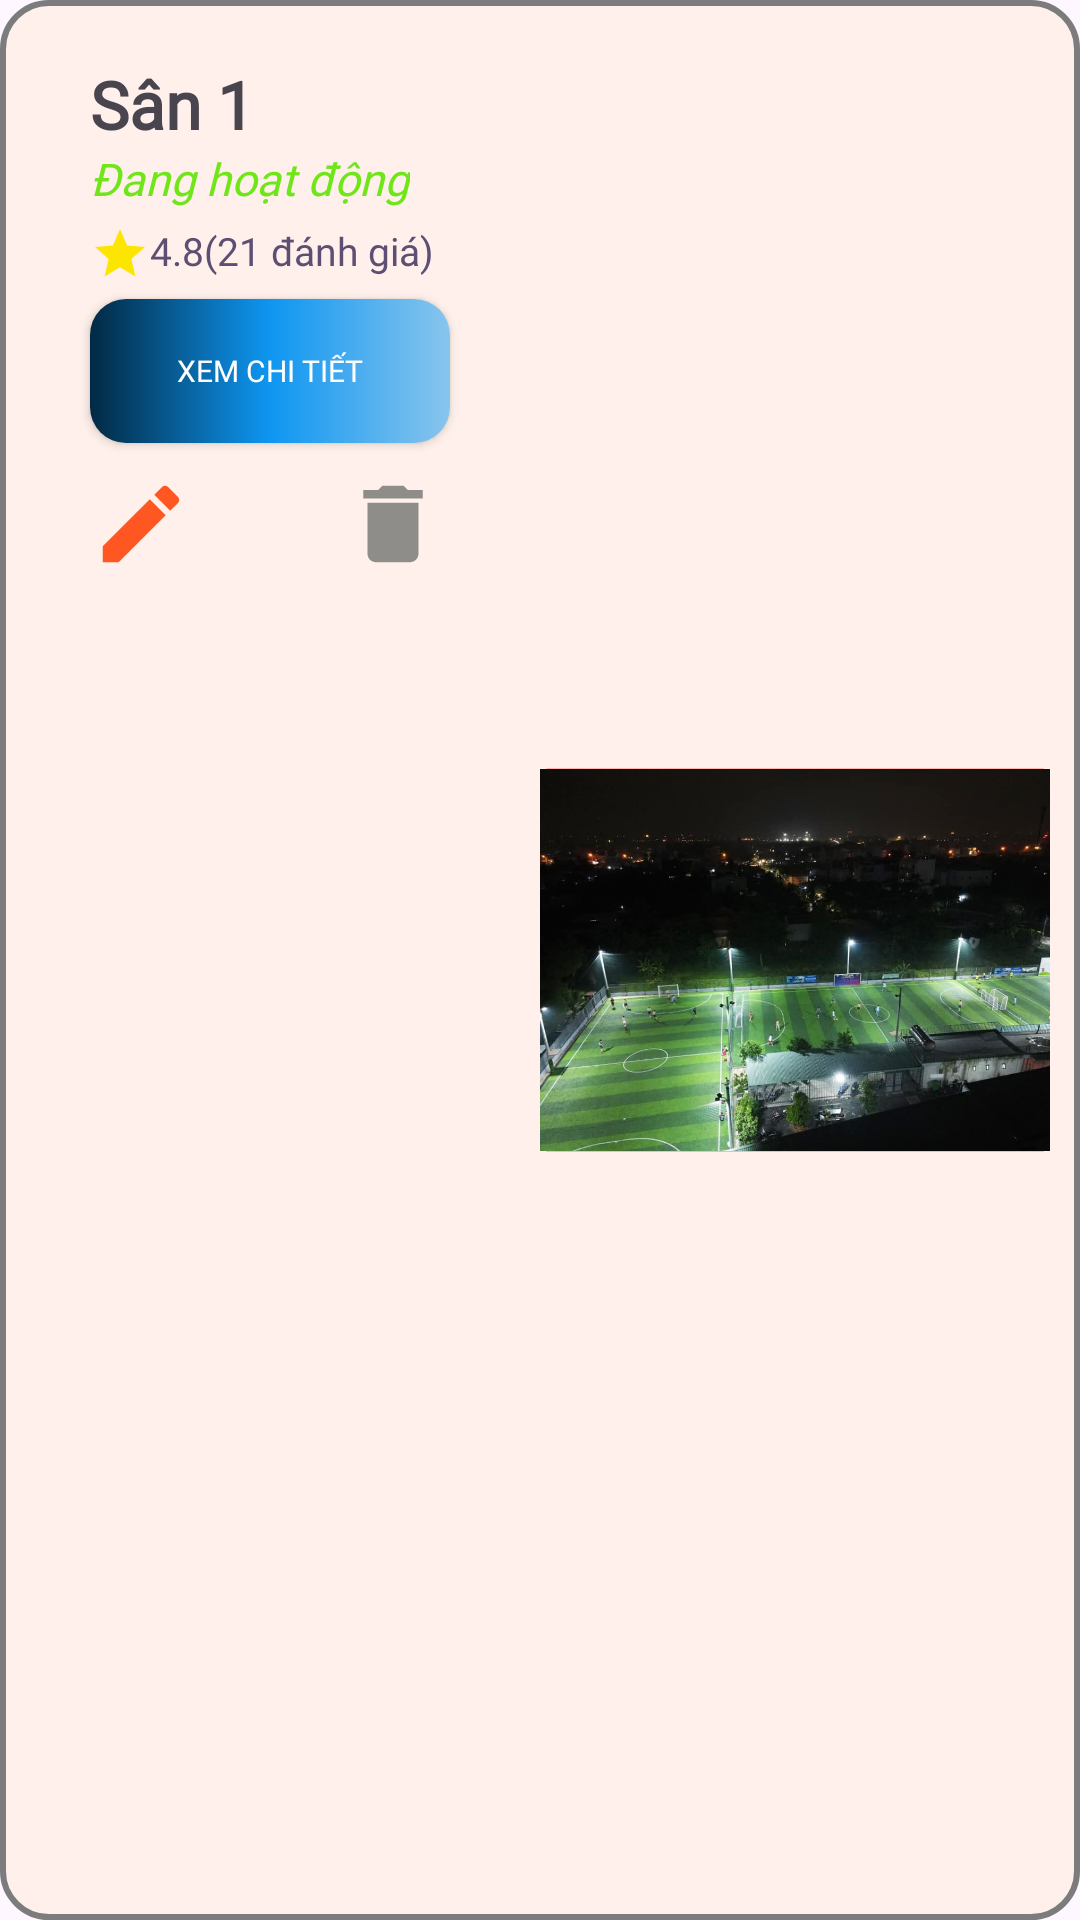

Icons on this 1080px x 1920px Android screen, each with the point to tap as [x,y]:
delete: [393,524]
edit: [141,524]
